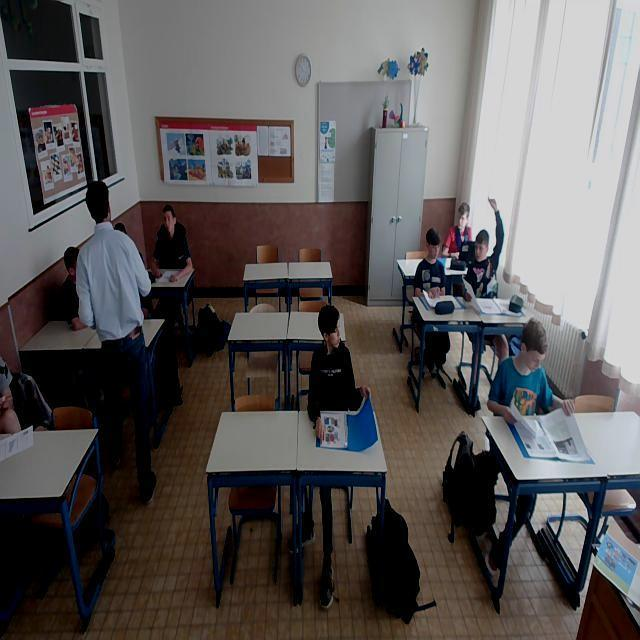Looking away: (318, 301, 344, 352), (423, 226, 441, 261)
Looking forward: (157, 198, 191, 284), (456, 203, 472, 233)
Raising hand: (472, 196, 511, 304)
Reading-writing: (483, 320, 596, 465)
